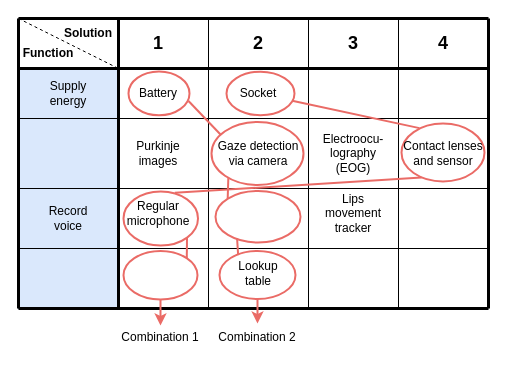
This 508x370 diagram has some shape labels left out. Each missing label, with the box of its shape:
Condenser microphone: (214, 190, 301, 243)
Inference method: (122, 250, 198, 300)
Interpret action: (18, 248, 118, 308)
Track eye movement: (18, 118, 118, 188)
